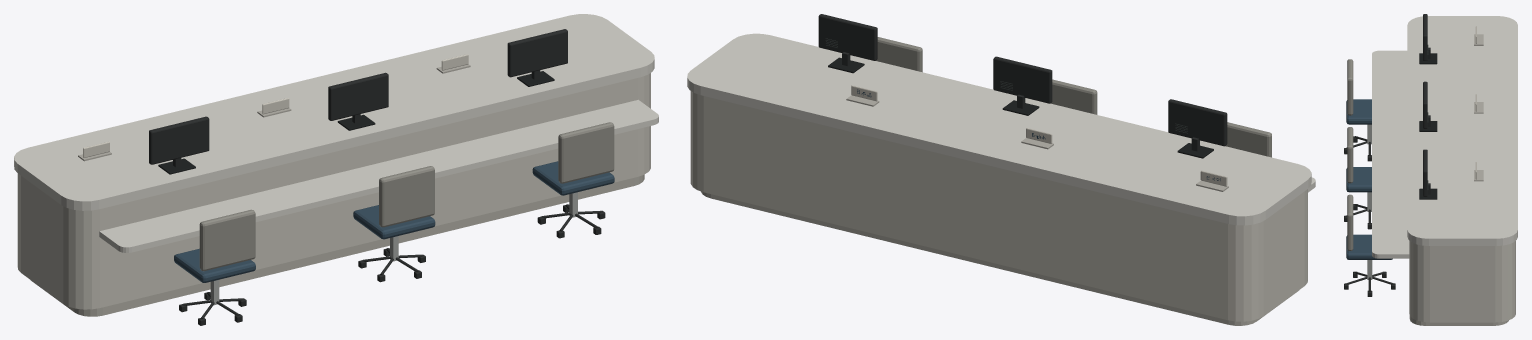
Rendered from desk.glb.
The picture shows the model from 3 angles, left to right: view 1: azimuth 30°, elevation 25°; view 2: azimuth 150°, elevation 25°; view 3: azimuth 270°, elevation 25°; orthographic projection. The views are drawn at different scales.
Parts seen in each view (by area): view 1: SebitInformation_desk; view 2: SebitInformation_desk; view 3: SebitInformation_desk.
Boxes of the visible parts, box(x1,y1,x2,y2) form: SebitInformation_desk: box(14, 14, 658, 325); SebitInformation_desk: box(687, 14, 1315, 325); SebitInformation_desk: box(1344, 14, 1517, 325).
Size of the model in its own units: 5.23 by 1.38 by 1.72.
